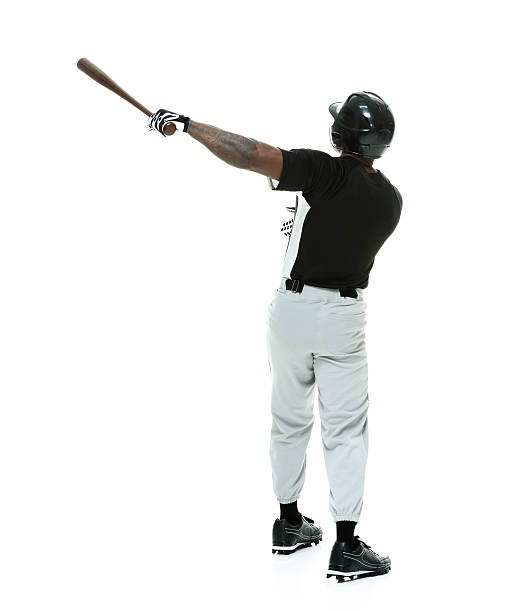bita: (76, 56, 168, 120)
